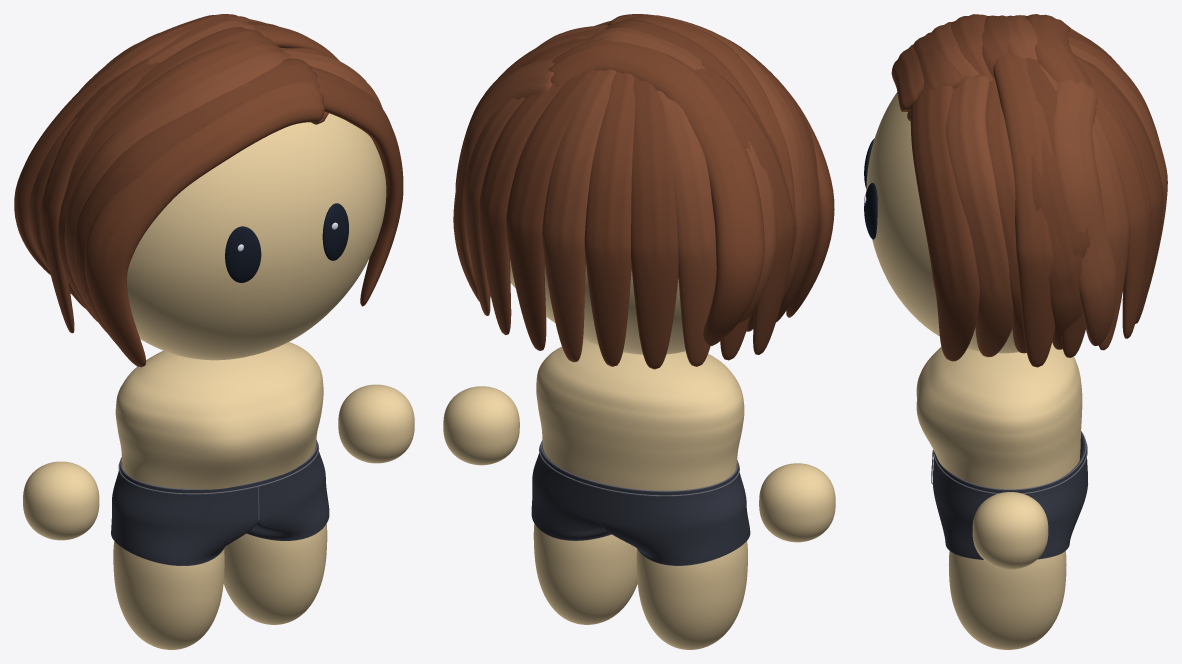
Rendered from Feminine-base.glb.
3 renders of one model, left to right at view 1: azimuth 30°, elevation 25°; view 2: azimuth 150°, elevation 25°; view 3: azimuth 270°, elevation 25°, orthographic.
Parts seen in each view (by area): view 1: Skin / soft oval head, Skin / rounded torso, Hair / Bob / side sweep 0, Clothing / fixed shorts, Skin / leg blob -1, Skin / leg blob 1, Hair / Bob / side sweep 1, Hair / Bob / side sweep 2, Hair / Bob / side sweep 7, Hair / Bob / side sweep 3, Hair / Bob / side sweep 22, Hair / Bob / side sweep 6 (+8 smaller); view 2: Skin / rounded torso, Hair / Bob / side sweep 6, Clothing / fixed shorts, Hair / Bob / side sweep 19, Hair / Bob / side sweep 18, Hair / Bob / side sweep 17, Hair / Bob / side sweep 16, Hair / Bob / side sweep 20, Skin / leg blob -1, Skin / leg blob 1, Hair / Bob / side sweep 15, Hair / Bob / side sweep 22 (+14 smaller); view 3: Skin / rounded torso, Hair / Bob / side sweep 7, Hair / Bob / side sweep 8, Hair / Bob / side sweep 12, Skin / soft oval head, Hair / Bob / side sweep 11, Skin / leg blob 1, Clothing / fixed shorts, Hair / Bob / side sweep 15, Hair / Bob / side sweep 10, Skin / orb hand 1, Hair / Bob / side sweep 9 (+13 smaller).
Part boxes in pixels (x1=…): Skin / soft oval head: x1=127, y1=113, x2=386, y2=360; Skin / rounded torso: x1=115, y1=342, x2=323, y2=489; Hair / Bob / side sweep 0: x1=84, y1=82, x2=328, y2=367; Clothing / fixed shorts: x1=111, y1=440, x2=329, y2=565; Skin / leg blob -1: x1=113, y1=541, x2=224, y2=649; Skin / leg blob 1: x1=223, y1=524, x2=327, y2=624; Hair / Bob / side sweep 1: x1=74, y1=58, x2=319, y2=345; Hair / Bob / side sweep 2: x1=64, y1=51, x2=291, y2=332; Hair / Bob / side sweep 7: x1=311, y1=67, x2=403, y2=306; Hair / Bob / side sweep 3: x1=58, y1=39, x2=282, y2=321; Hair / Bob / side sweep 22: x1=40, y1=58, x2=160, y2=333; Hair / Bob / side sweep 6: x1=14, y1=14, x2=254, y2=275; Skin / rounded torso: x1=536, y1=339, x2=744, y2=490; Hair / Bob / side sweep 6: x1=548, y1=39, x2=764, y2=346; Clothing / fixed shorts: x1=531, y1=442, x2=750, y2=565; Hair / Bob / side sweep 19: x1=631, y1=77, x2=678, y2=369; Hair / Bob / side sweep 18: x1=584, y1=71, x2=635, y2=366; Hair / Bob / side sweep 17: x1=542, y1=69, x2=615, y2=362; Hair / Bob / side sweep 16: x1=506, y1=70, x2=596, y2=350; Hair / Bob / side sweep 20: x1=657, y1=90, x2=716, y2=366; Skin / leg blob -1: x1=636, y1=541, x2=747, y2=649; Skin / leg blob 1: x1=533, y1=524, x2=637, y2=624; Hair / Bob / side sweep 15: x1=479, y1=82, x2=566, y2=335; Hair / Bob / side sweep 22: x1=694, y1=61, x2=794, y2=354; Skin / rounded torso: x1=916, y1=343, x2=1082, y2=489; Hair / Bob / side sweep 7: x1=910, y1=85, x2=979, y2=361; Hair / Bob / side sweep 8: x1=945, y1=74, x2=1013, y2=357; Hair / Bob / side sweep 12: x1=993, y1=53, x2=1057, y2=367; Skin / soft oval head: x1=866, y1=92, x2=1052, y2=353; Hair / Bob / side sweep 11: x1=1053, y1=79, x2=1116, y2=345; Skin / leg blob 1: x1=949, y1=551, x2=1066, y2=649; Clothing / fixed shorts: x1=932, y1=433, x2=1087, y2=559; Hair / Bob / side sweep 15: x1=1087, y1=75, x2=1150, y2=338; Hair / Bob / side sweep 10: x1=1031, y1=137, x2=1082, y2=349; Skin / orb hand 1: x1=972, y1=492, x2=1048, y2=569; Hair / Bob / side sweep 9: x1=986, y1=78, x2=1026, y2=353.
Bounding box in the file's own units: 1.23 × 1.86 × 0.8643.
